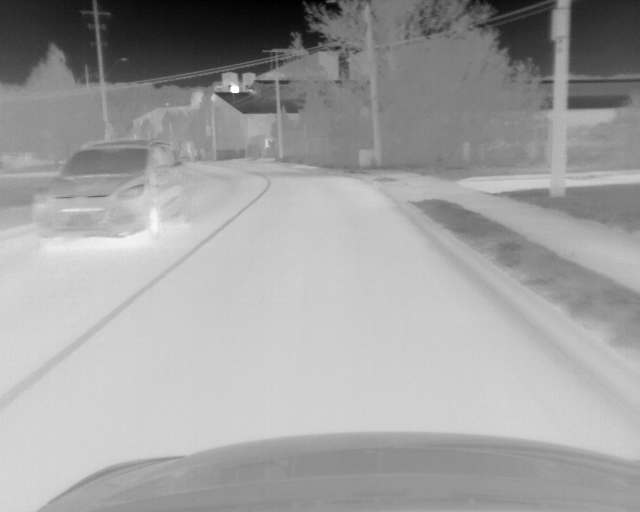car: (29, 138, 193, 249)
